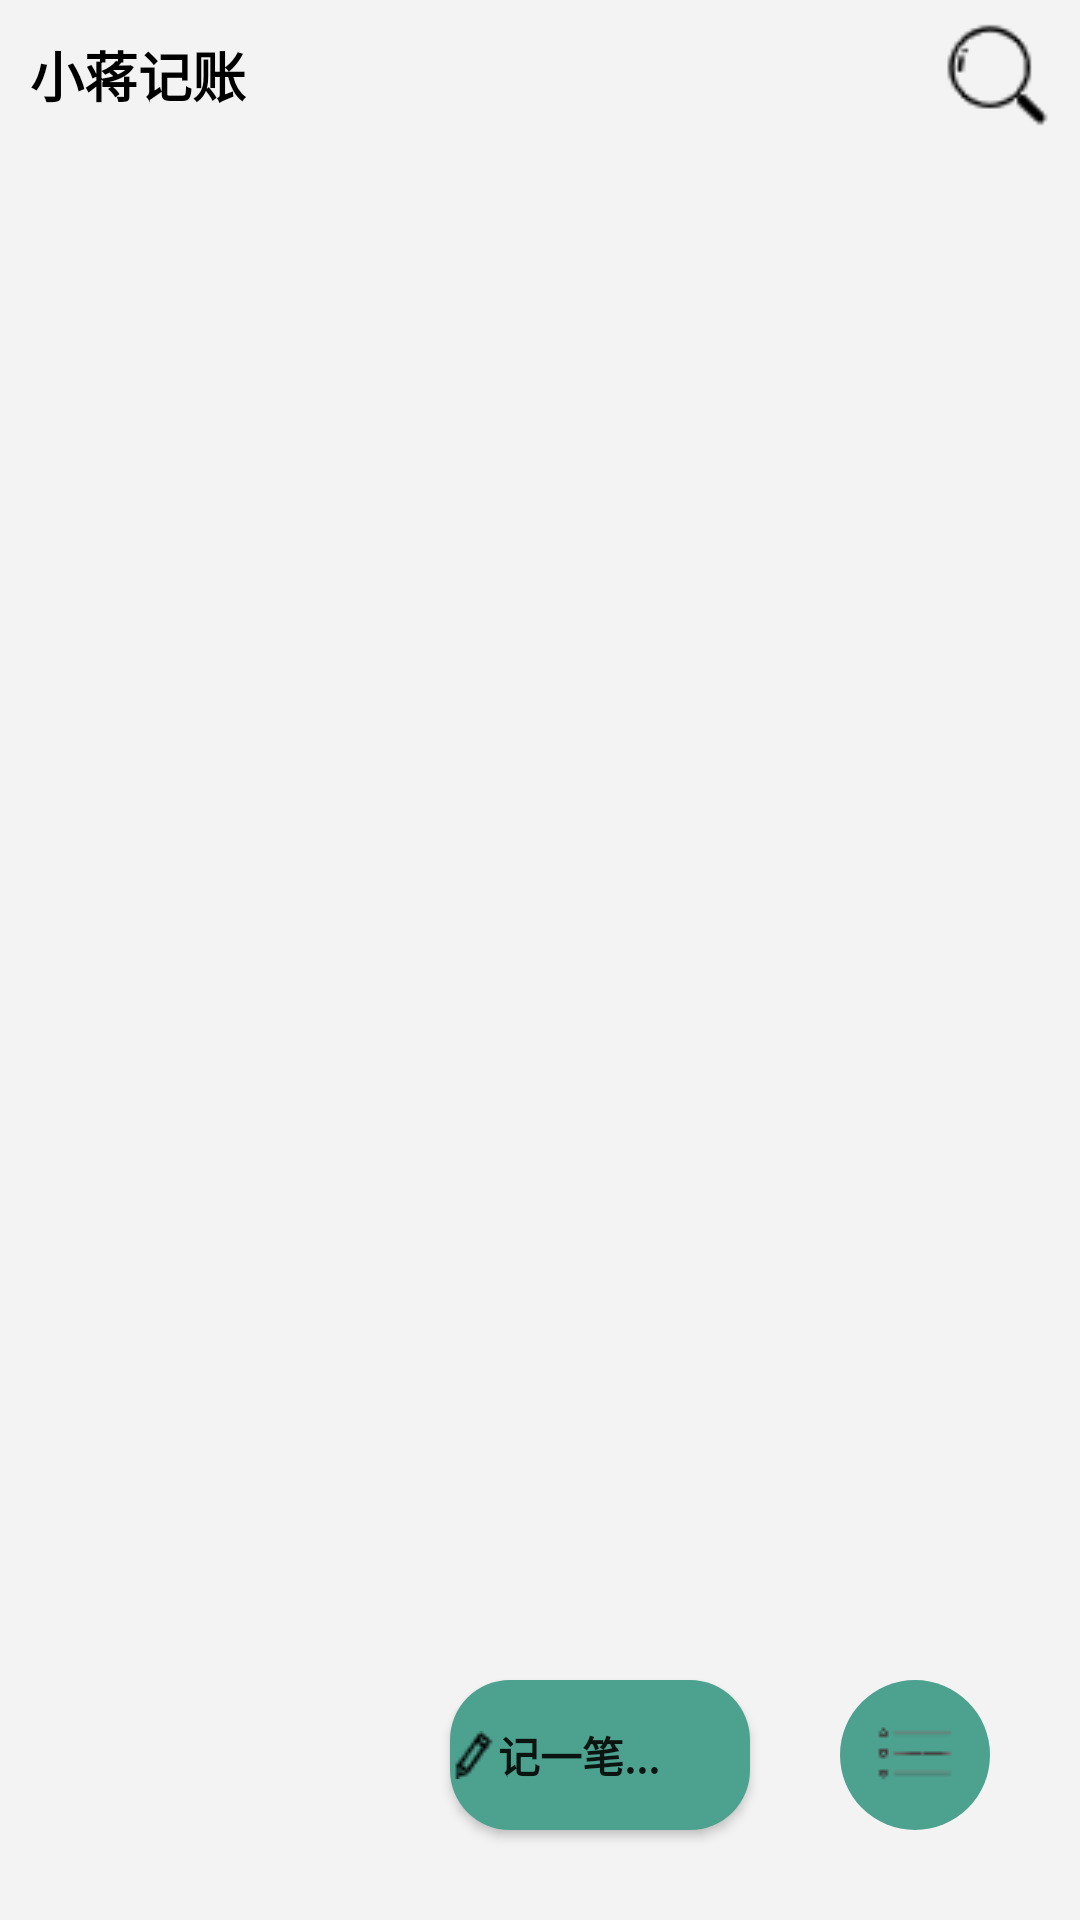

Where to tap for icons on this 1080px×1920px app screen, as [x,y]:
more: [915,1755]
search: [997,75]
